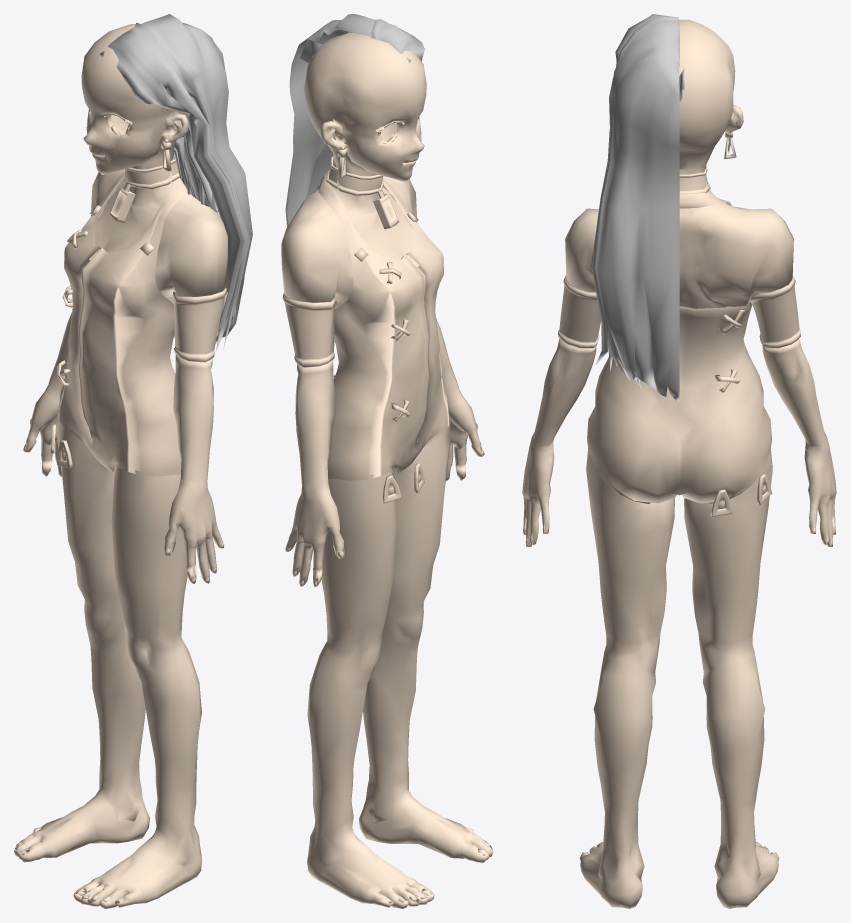
File: anime_girl.obj
3 views of the same model, side by side, from view 1: azimuth 30°, elevation 25°; view 2: azimuth 150°, elevation 25°; view 3: azimuth 270°, elevation 25° (orthographic). The views are drawn at different scales.
Parts seen in each view (by area): view 1: Cube.004; view 2: Cube.004; view 3: Cube.004.
Boxes of the visible parts, x1,y1,x2,y2 form: Cube.004: (14, 14, 252, 908); Cube.004: (281, 14, 493, 908); Cube.004: (522, 14, 836, 908).
Bounding box in the file's own units: 1.93 × 8.59 × 2.77.
